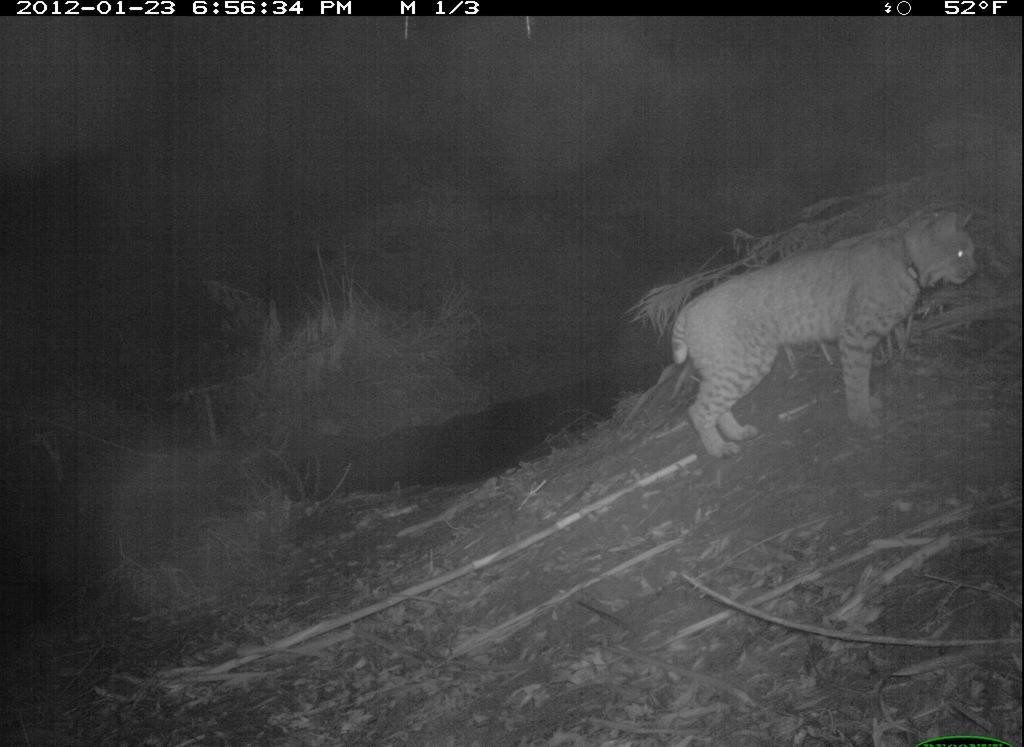bobcat: (633, 185, 994, 463)
